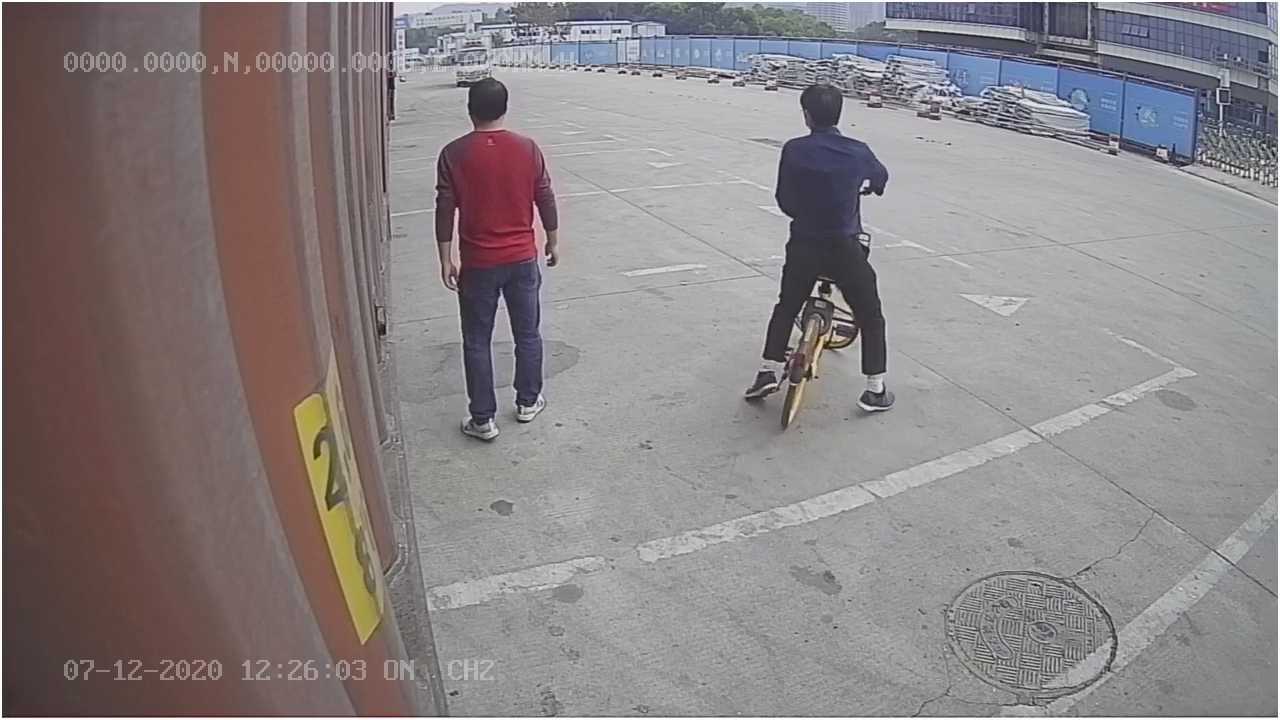person: (427, 76, 566, 445)
